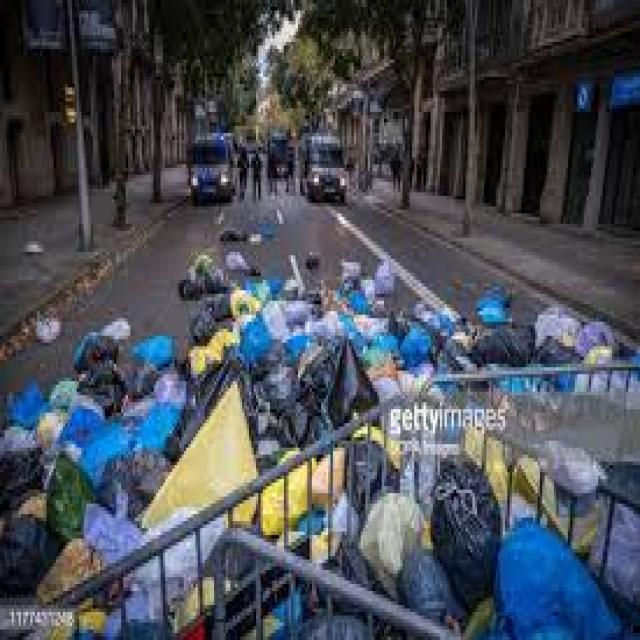plastic_bag: (439, 466, 502, 557), (334, 326, 371, 417), (467, 316, 530, 361), (273, 351, 297, 431), (74, 326, 111, 375), (89, 361, 128, 403), (308, 246, 327, 263)
